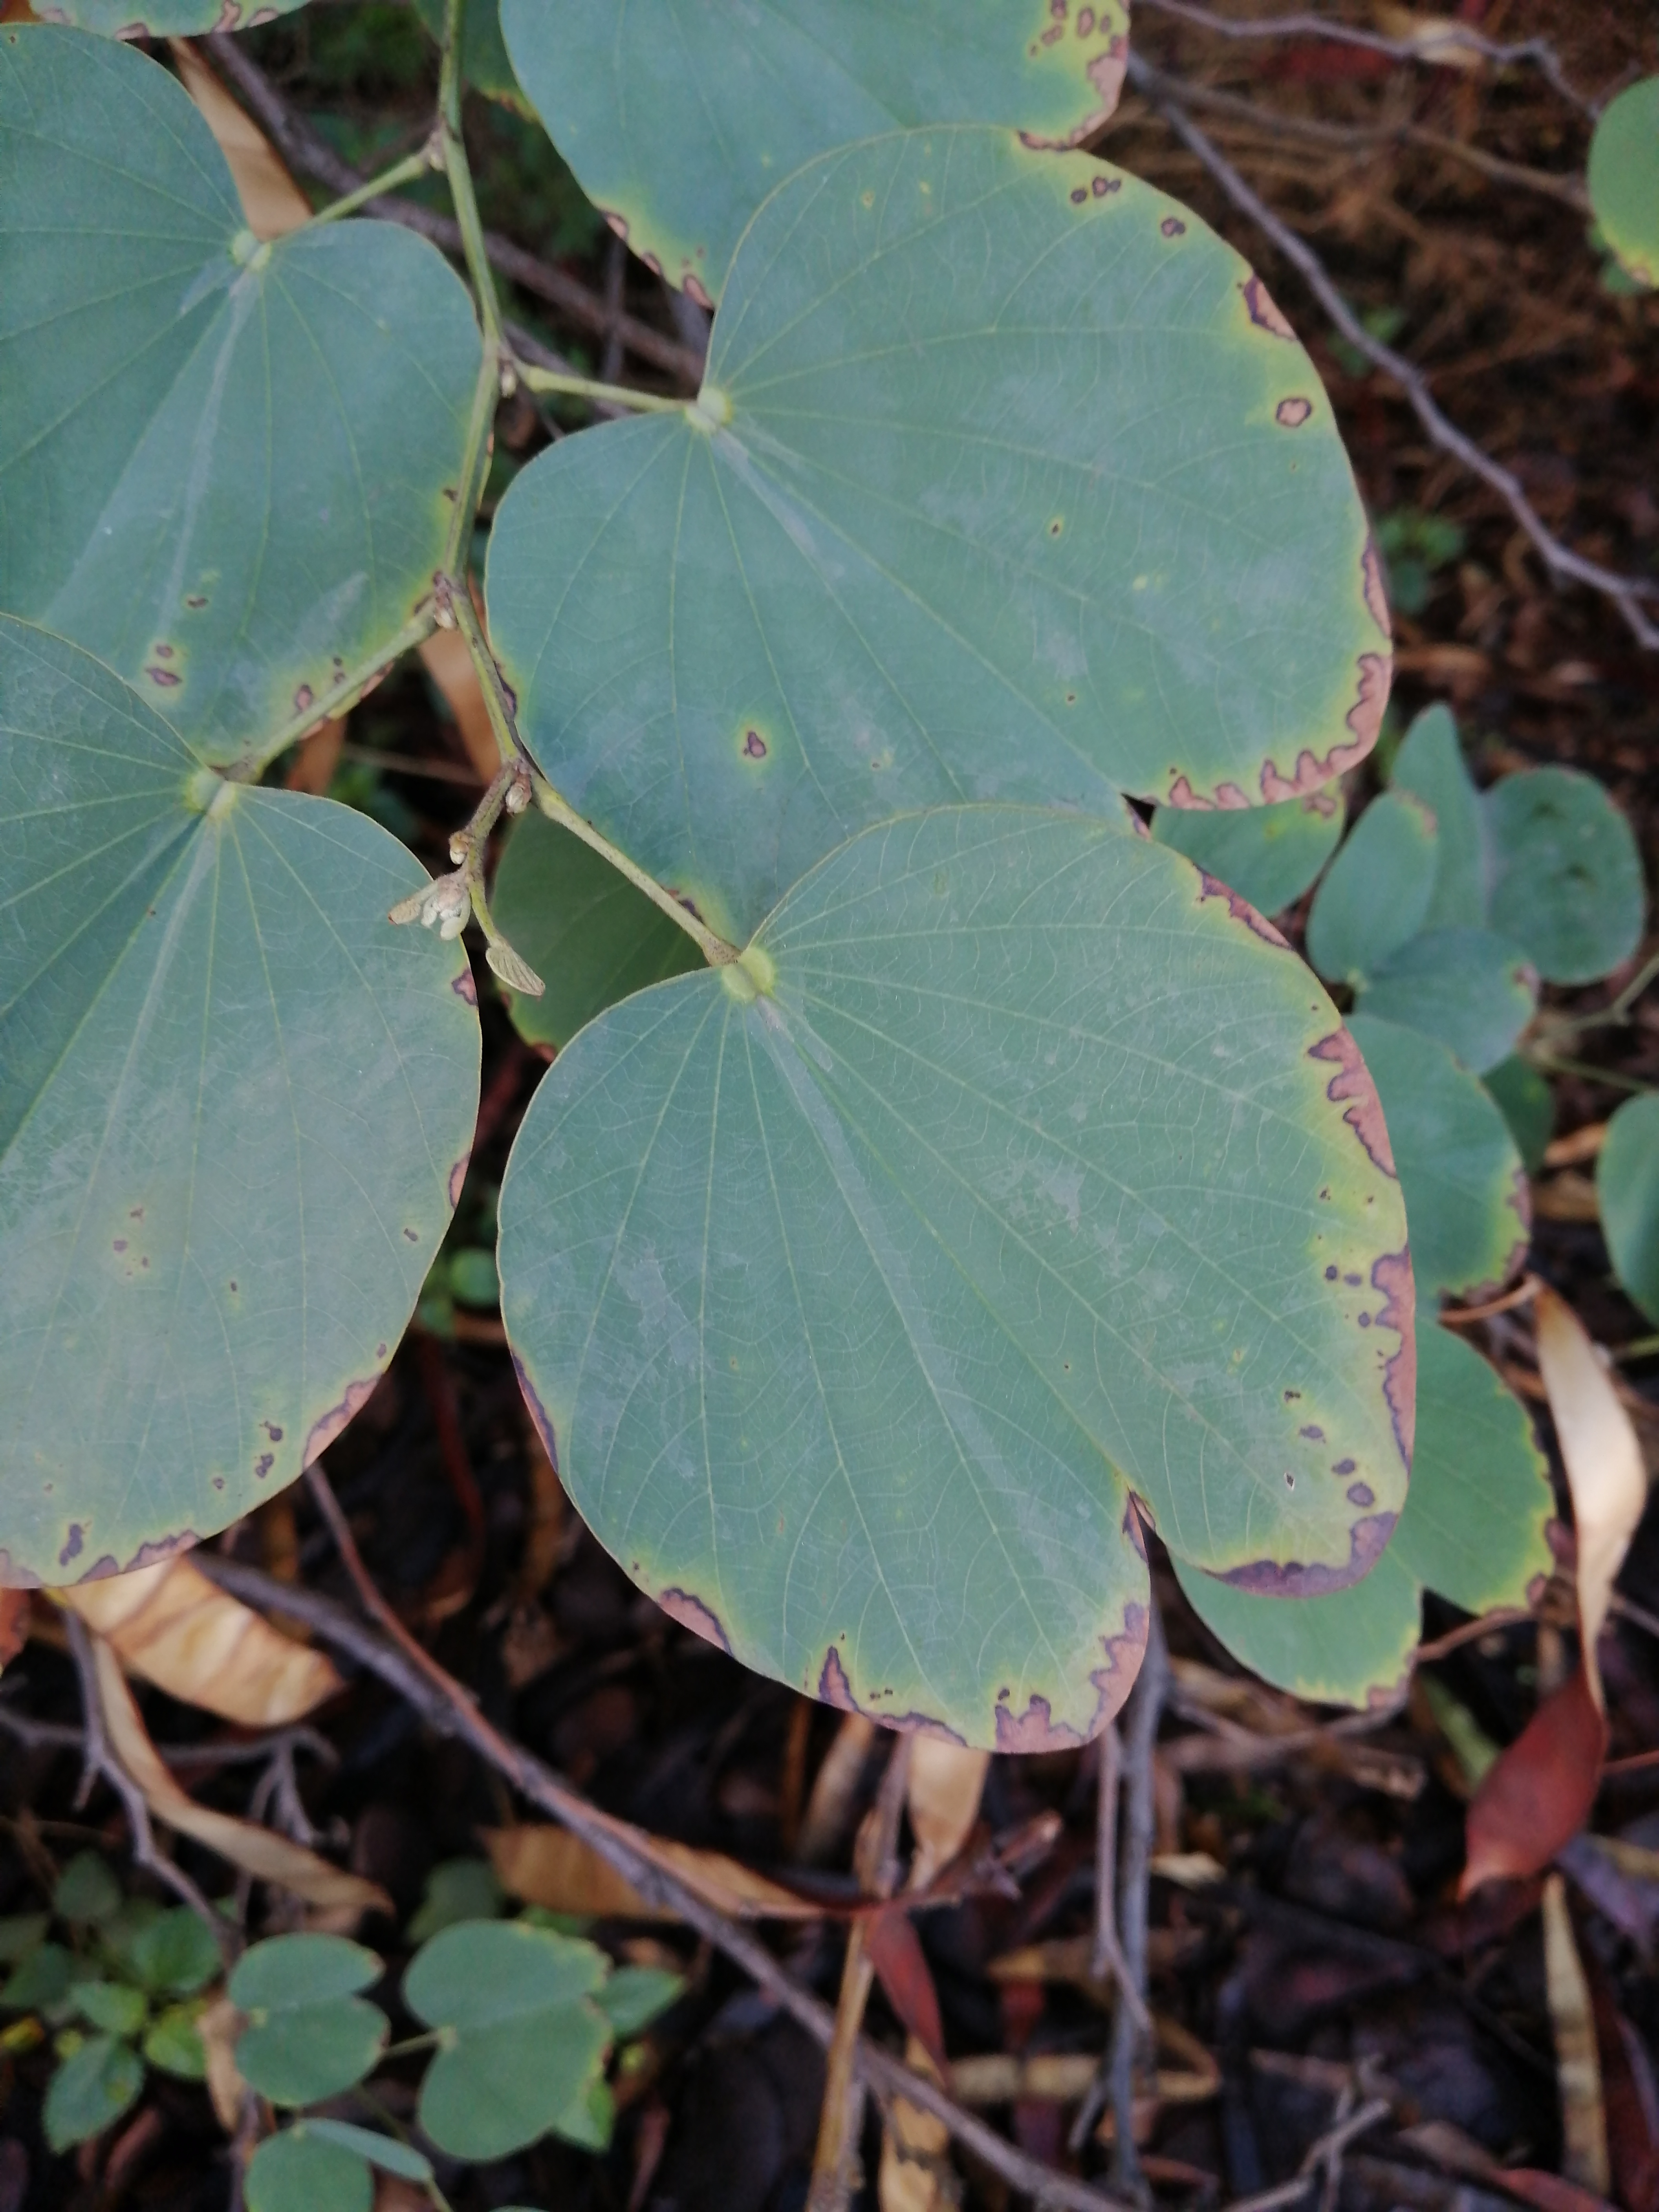nothealthy: (526, 890, 1466, 1756), (453, 178, 1405, 942), (0, 747, 502, 1592)
